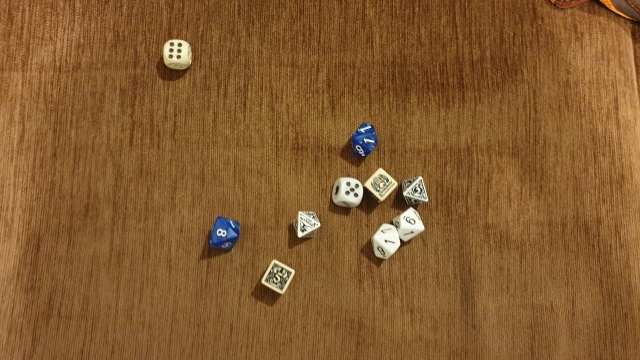d10-1: (346, 114, 381, 164), (366, 220, 401, 263)
d10-8: (207, 214, 241, 254)
d10-9: (394, 205, 428, 248)
d6-5: (328, 175, 364, 211)
d6-6: (160, 37, 195, 71)
d6p-5: (256, 256, 297, 299)
d6p-6: (361, 165, 398, 205)
d8p-1: (290, 206, 323, 243)
d8p-2: (398, 168, 430, 209)
